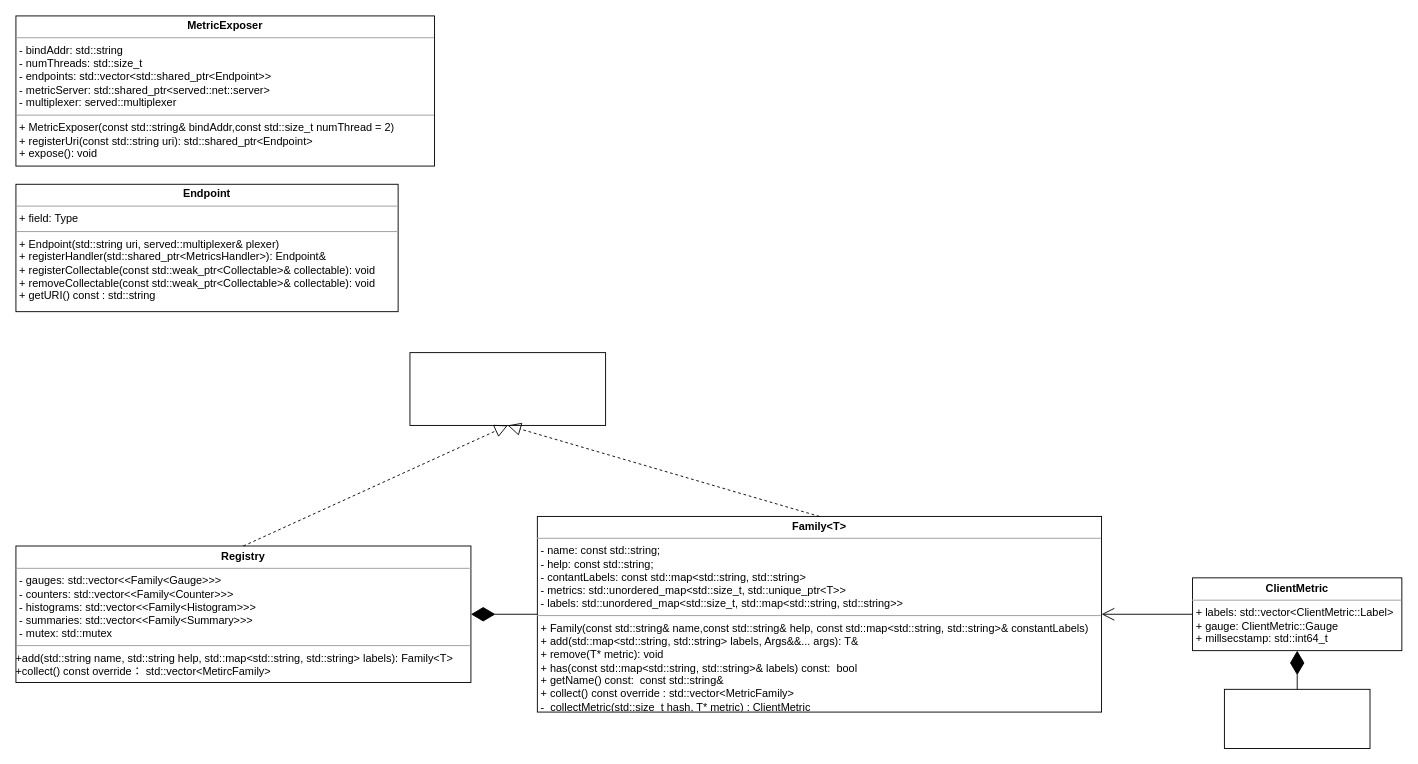
Some shapes in this 1418 by 764 pixel diagram are drawn without their labels. The shapes that lost their labels are listed below. From the top down, each one's box as (x1, y1, x2, y2) in pixels, then its label:
(409, 352, 606, 425): <<Interface>> Collectable + collect()： std::vector<MetircFamily>
(1223, 688, 1370, 748): Label + name: std::string + value: std::string
